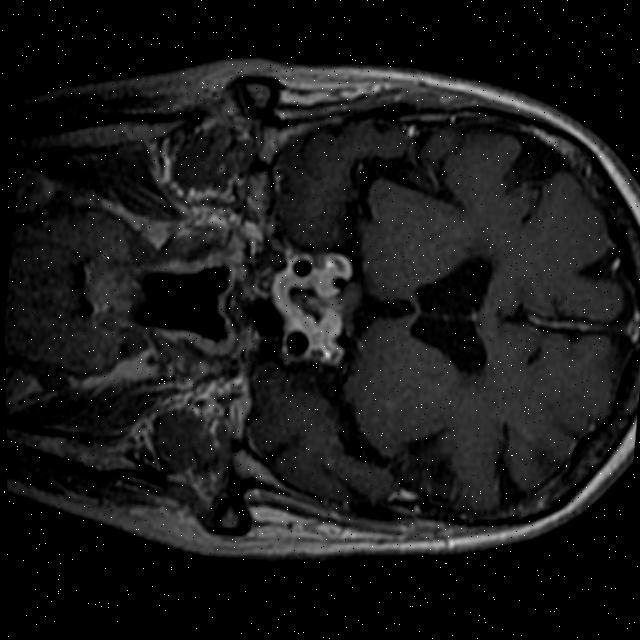Pituitary: (266, 270, 347, 341)
